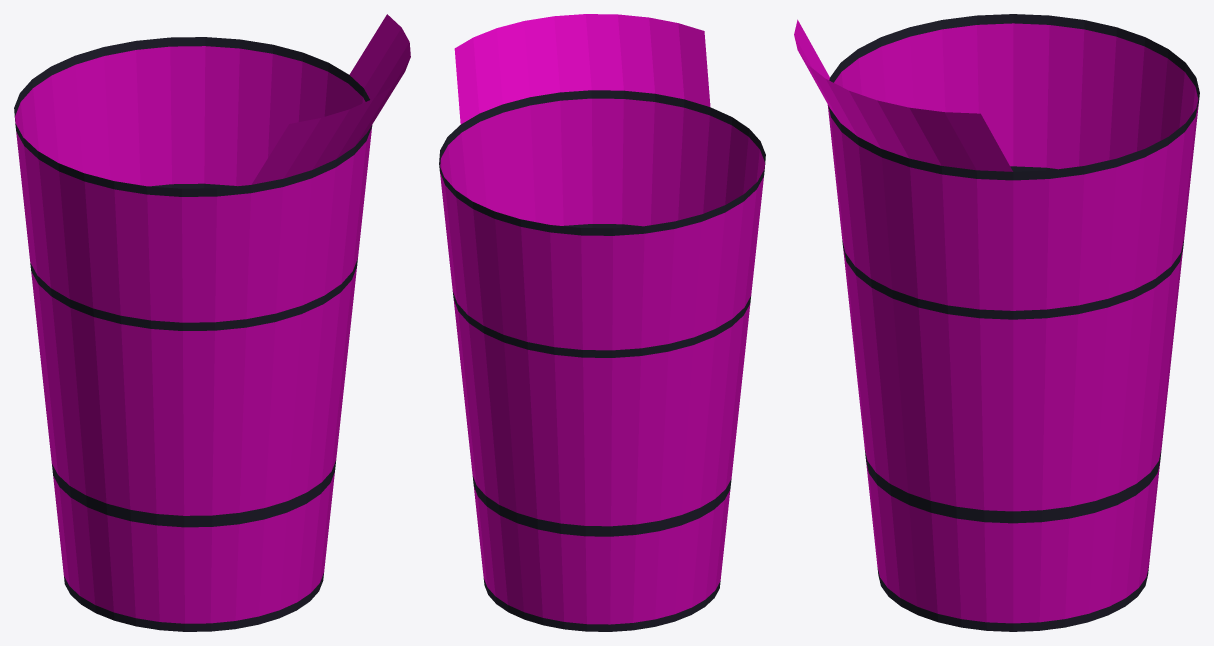
File: thighArmor.fbx
3 views of the same model, side by side, from view 1: azimuth 30°, elevation 25°; view 2: azimuth 150°, elevation 25°; view 3: azimuth 270°, elevation 25° (orthographic). The views are drawn at different scales.
Parts seen in each view (by area): view 1: Cylinder; view 2: Cylinder; view 3: Cylinder.
Boxes of the visible parts, x1=… form: Cylinder: x1=14, y1=14, x2=410, y2=631; Cylinder: x1=439, y1=14, x2=765, y2=631; Cylinder: x1=794, y1=14, x2=1199, y2=631.
Bounding box in the file's own units: 297 × 451 × 301.
